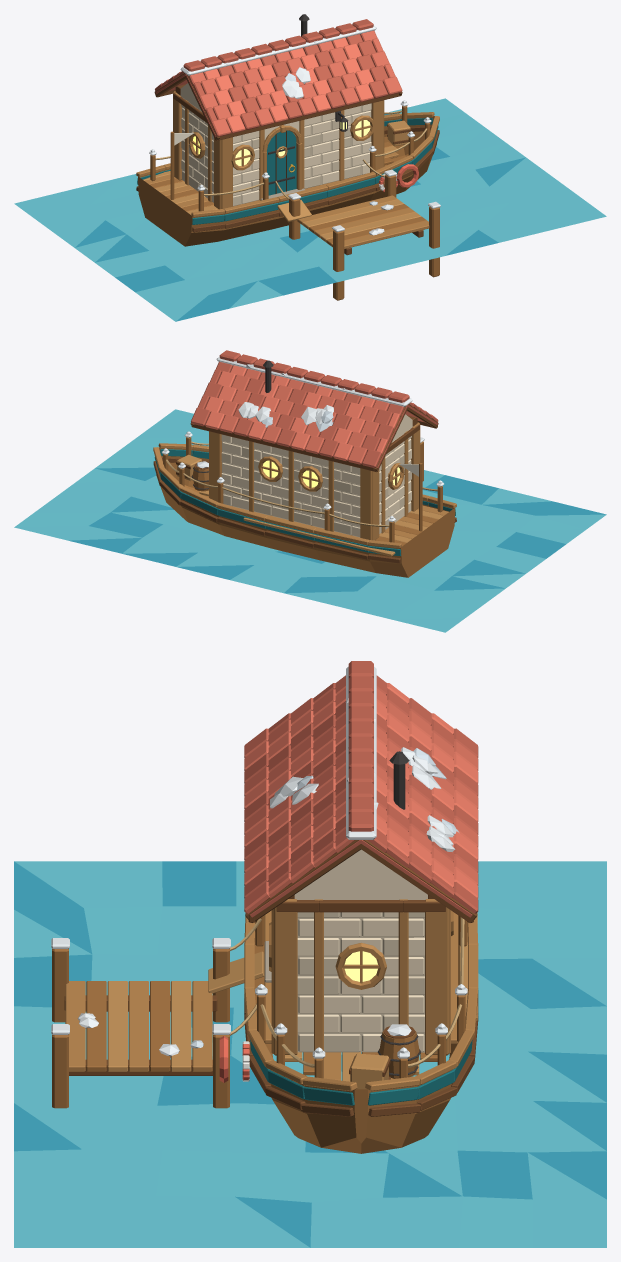
File: houseboat_t2_exterior.glb
3 renders of one model, top to bottom at view 1: azimuth 30°, elevation 25°; view 2: azimuth 150°, elevation 25°; view 3: azimuth 270°, elevation 25°, orthographic. The views are drawn at different scales.
Visible parts, largest first — view 1: houseboat_t2_exterior, houseboat_t2_exterior_roof, part_door_leaf; view 2: houseboat_t2_exterior, houseboat_t2_exterior_roof; view 3: houseboat_t2_exterior, houseboat_t2_exterior_roof.
Part boxes in pixels (box(x1,y1,x2,y2)): houseboat_t2_exterior: box(14, 91, 606, 321); houseboat_t2_exterior_roof: box(154, 14, 402, 140); part_door_leaf: box(267, 130, 296, 195); houseboat_t2_exterior: box(14, 409, 606, 632); houseboat_t2_exterior_roof: box(190, 350, 438, 471); houseboat_t2_exterior: box(14, 861, 606, 1247); houseboat_t2_exterior_roof: box(244, 661, 478, 922).
Bounding box in the file's own units: 10.8 × 4.84 × 7.
